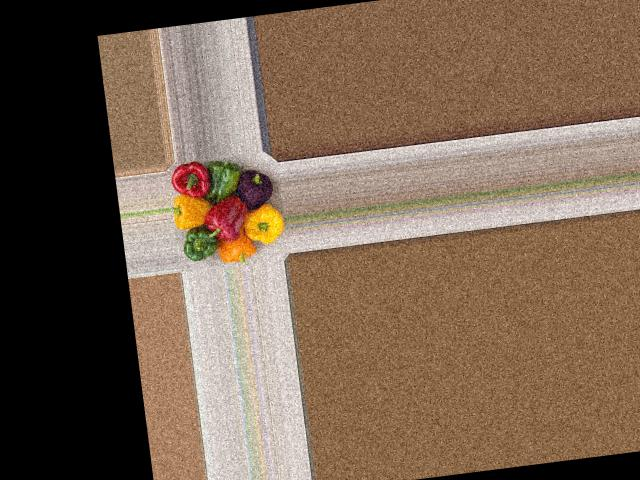bell_pepper: (225, 158, 274, 213)
